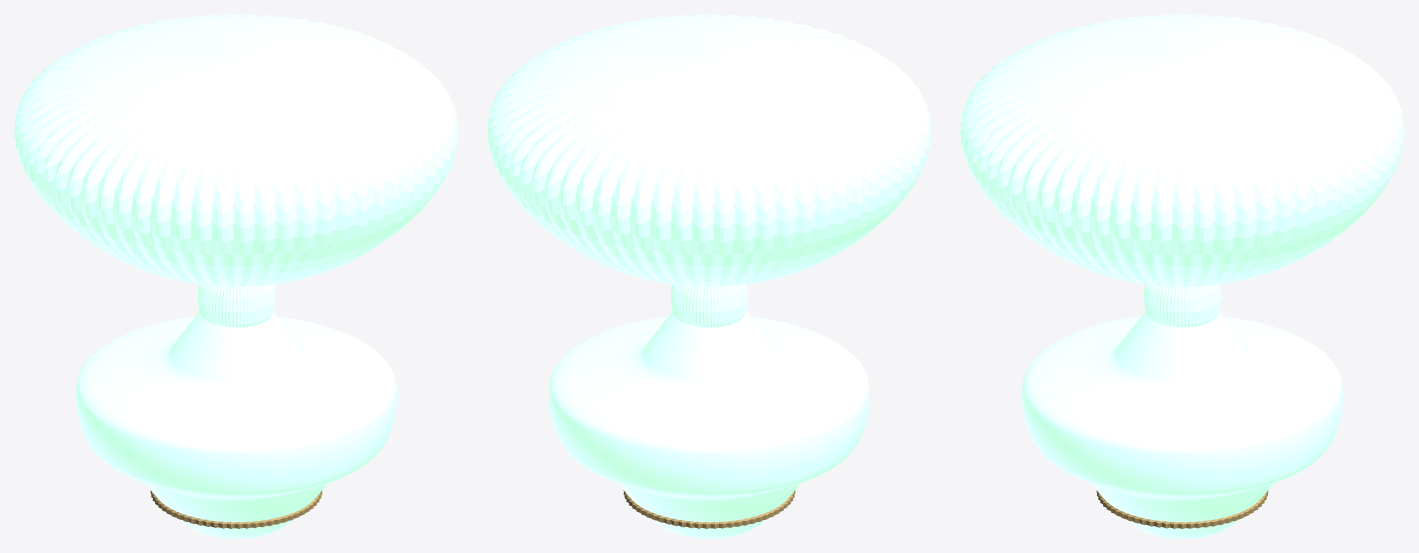
The picture shows the model from 3 angles, left to right: view 1: azimuth 30°, elevation 25°; view 2: azimuth 150°, elevation 25°; view 3: azimuth 270°, elevation 25°; orthographic projection.
Parts seen in each view (by area): view 1: Glass_Shade, Glass_Bulb, Glass_Neck, Brass_Base; view 2: Glass_Shade, Glass_Bulb, Glass_Neck, Brass_Base; view 3: Glass_Shade, Glass_Bulb, Glass_Neck, Brass_Base.
Part boxes in pixels (x1,y1,x2,y2): Glass_Shade: [14, 14, 458, 287]; Glass_Bulb: [76, 312, 396, 538]; Glass_Neck: [197, 284, 275, 327]; Brass_Base: [150, 490, 322, 528]; Glass_Shade: [487, 14, 931, 287]; Glass_Bulb: [549, 312, 869, 538]; Glass_Neck: [670, 284, 748, 327]; Brass_Base: [623, 490, 795, 528]; Glass_Shade: [960, 14, 1404, 287]; Glass_Bulb: [1022, 312, 1342, 538]; Glass_Neck: [1143, 284, 1221, 327]; Brass_Base: [1096, 490, 1268, 528].
Bounding box in the file's own units: 2.7 × 3.08 × 2.7.
